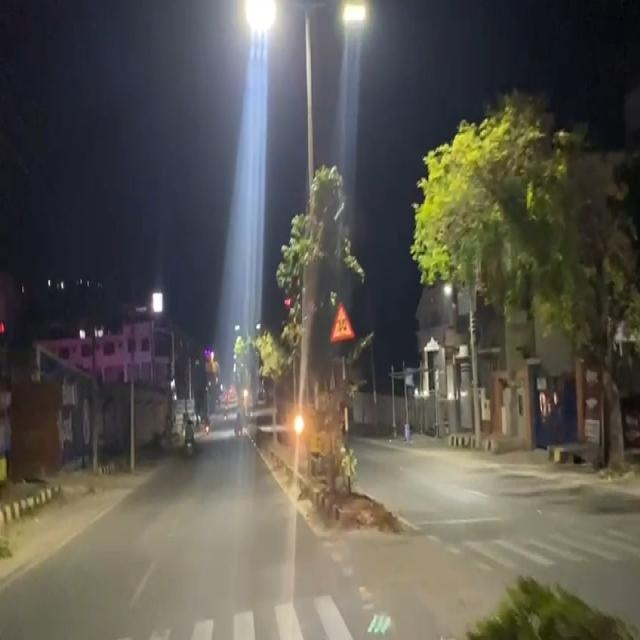bien_nguy_hiem: (330, 303, 356, 342)
